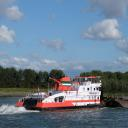tugboat: (16, 76, 119, 115)
